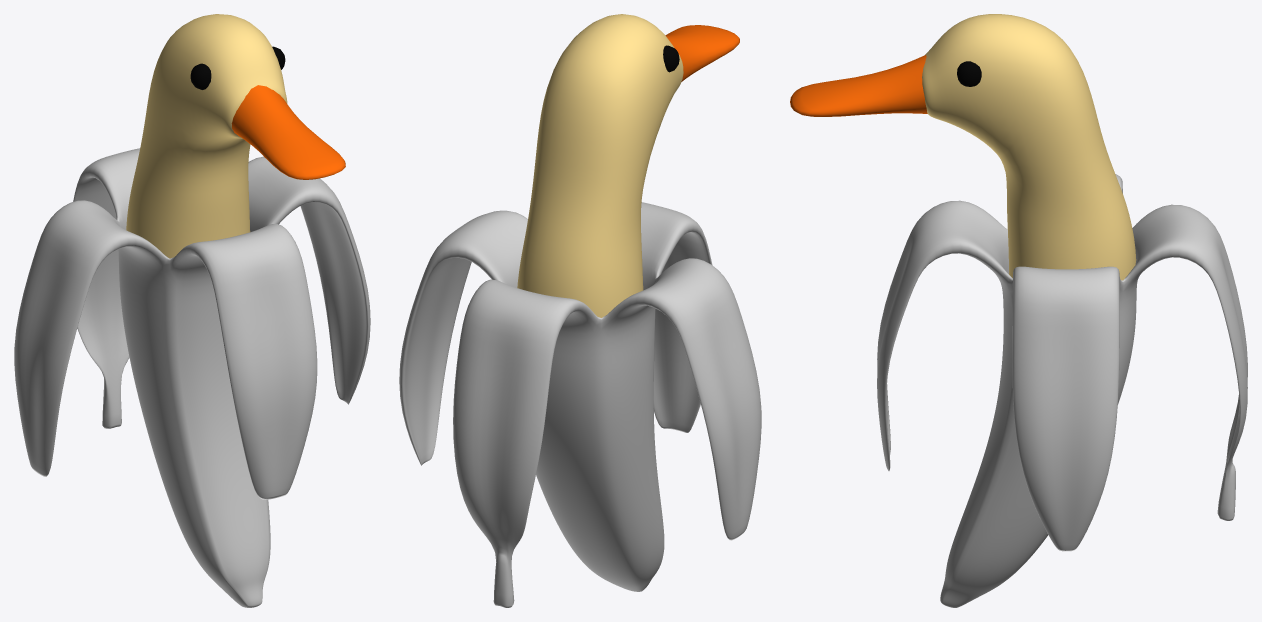
File: banana duck.obj
3 views of the same model, side by side, from view 1: azimuth 30°, elevation 25°; view 2: azimuth 150°, elevation 25°; view 3: azimuth 270°, elevation 25° (orthographic). The views are drawn at different scales.
Parts seen in each view (by area): view 1: banana_peel; view 2: banana_peel; view 3: banana_peel.
Boxes of the visible parts, box(x1,y1,x2,y2) form: banana_peel: box(14, 14, 370, 607); banana_peel: box(399, 14, 761, 607); banana_peel: box(790, 14, 1247, 607).
Size of the model in its own units: 2.52 by 4.25 by 3.01.
